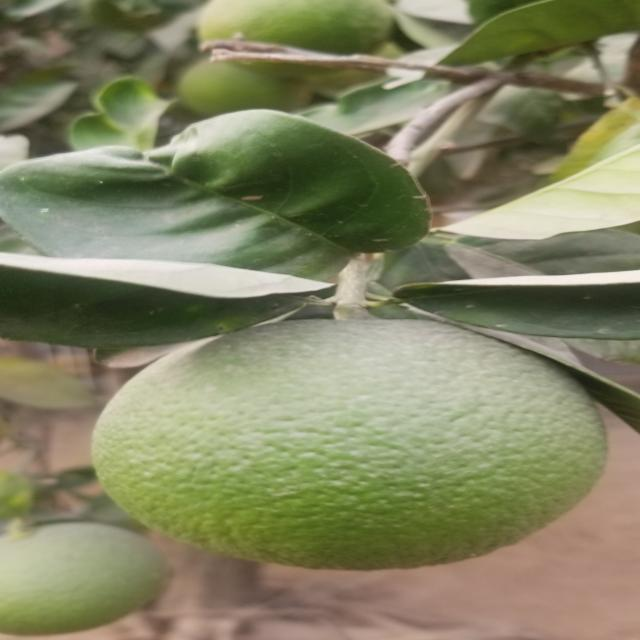Unripe: (101, 324, 601, 565)
